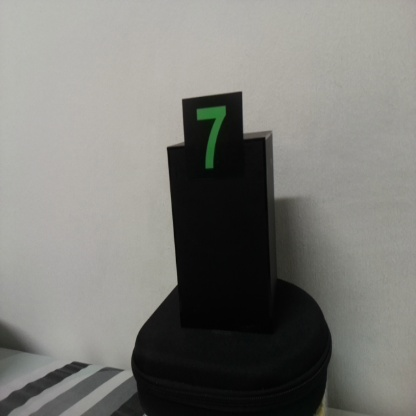id_7: (182, 97, 244, 192)
